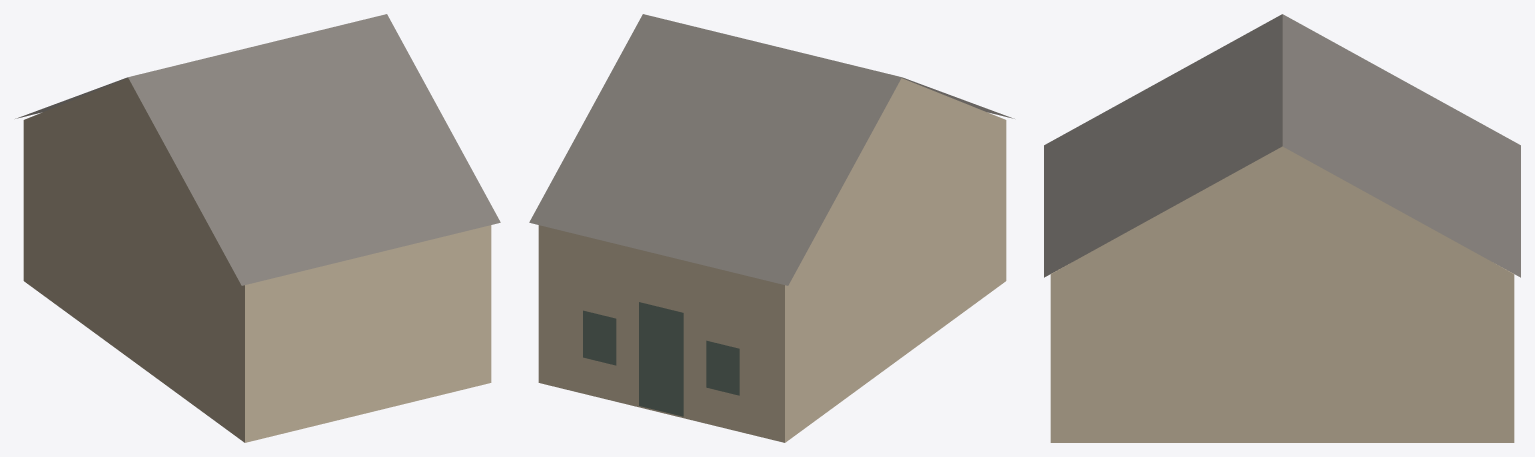
Rendered from recon_1835_north_w1_018__recommended_1835.glb.
3 views of the same model, side by side, from view 1: azimuth 30°, elevation 25°; view 2: azimuth 150°, elevation 25°; view 3: azimuth 270°, elevation 25° (orthographic). The views are drawn at different scales.
Visible parts, largest first — view 1: recon_1835_north_w1_018__recommended_1835; view 2: recon_1835_north_w1_018__recommended_1835; view 3: recon_1835_north_w1_018__recommended_1835.
Boxes of the visible parts, x1,y1,x2,y2 form: recon_1835_north_w1_018__recommended_1835: [15, 14, 500, 442]; recon_1835_north_w1_018__recommended_1835: [529, 14, 1014, 442]; recon_1835_north_w1_018__recommended_1835: [1044, 14, 1520, 442].
Bounding box in the file's own units: 5.77 × 6.09 × 8.77.
